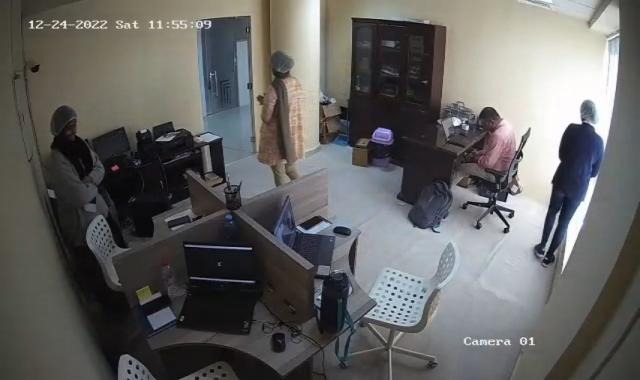hairnet: (49, 106, 80, 145), (268, 47, 294, 78), (576, 98, 600, 125)
no_hairnet: (478, 106, 502, 135)
